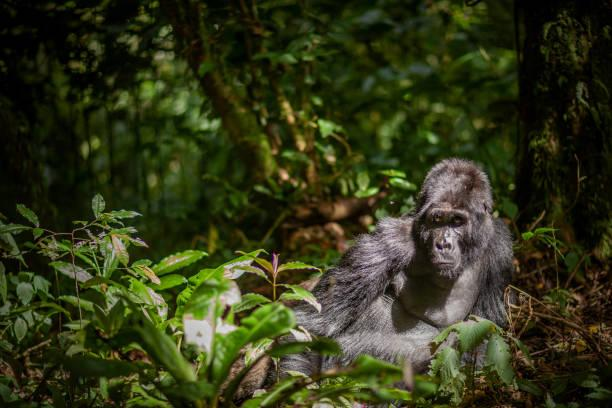goriile_montagne: (303, 149, 531, 384)
